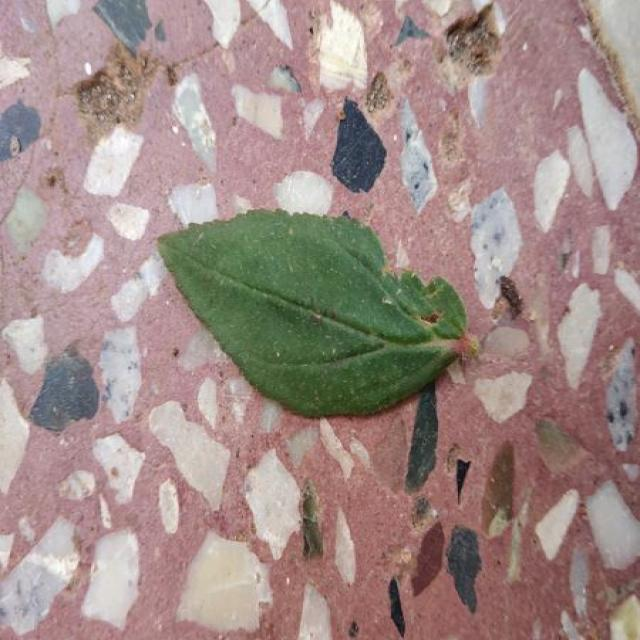Astma_weed: (158, 210, 468, 417)
disease in leaf: (158, 210, 467, 416)
